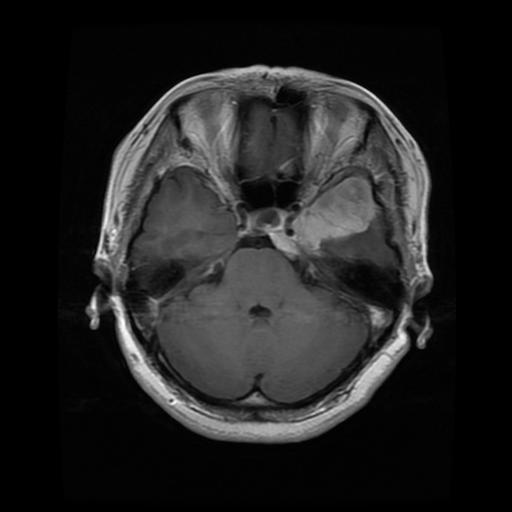Menigiomia_tumour: (267, 176, 380, 253)
